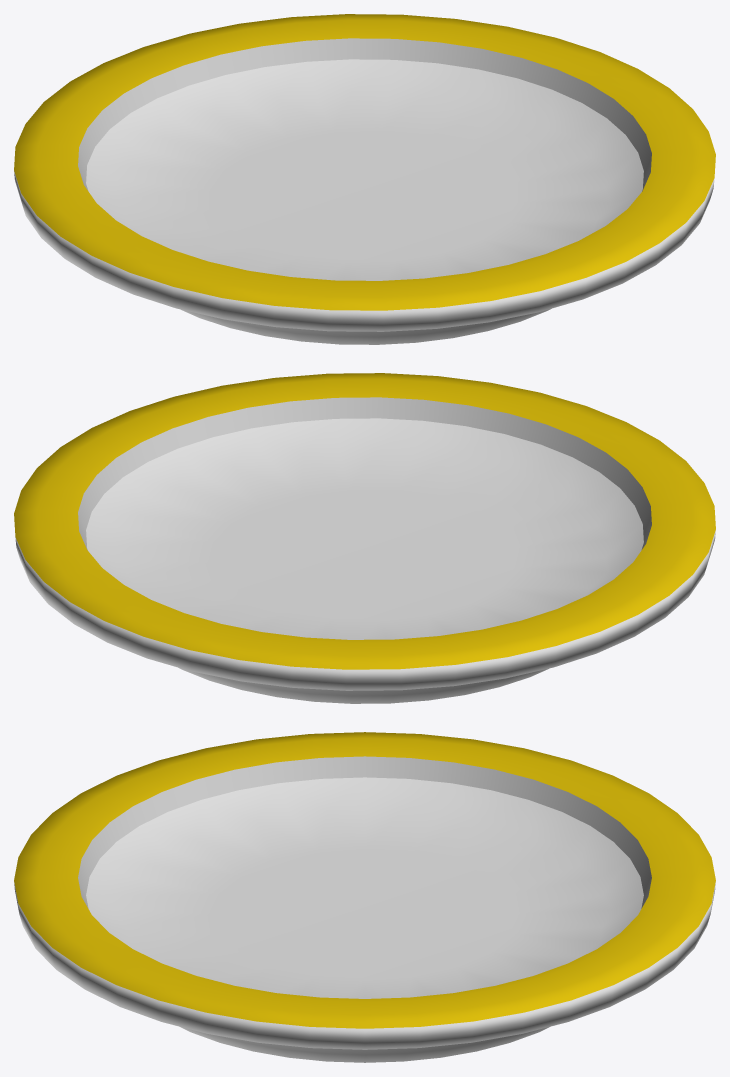
Rendered from plate.fbx.
3 renders of one model, top to bottom at view 1: azimuth 30°, elevation 25°; view 2: azimuth 150°, elevation 25°; view 3: azimuth 270°, elevation 25°, orthographic.
Parts seen in each view (by area): view 1: Kitchen_Tool_Plate:pCylinder1; view 2: Kitchen_Tool_Plate:pCylinder1; view 3: Kitchen_Tool_Plate:pCylinder1.
Boxes of the visible parts, left/top/right/bottom form: Kitchen_Tool_Plate:pCylinder1: left=14, top=14, right=715, bottom=344; Kitchen_Tool_Plate:pCylinder1: left=14, top=373, right=715, bottom=703; Kitchen_Tool_Plate:pCylinder1: left=14, top=732, right=715, bottom=1062.
Bounding box in the file's own units: 20.95 × 2.88 × 20.95.
